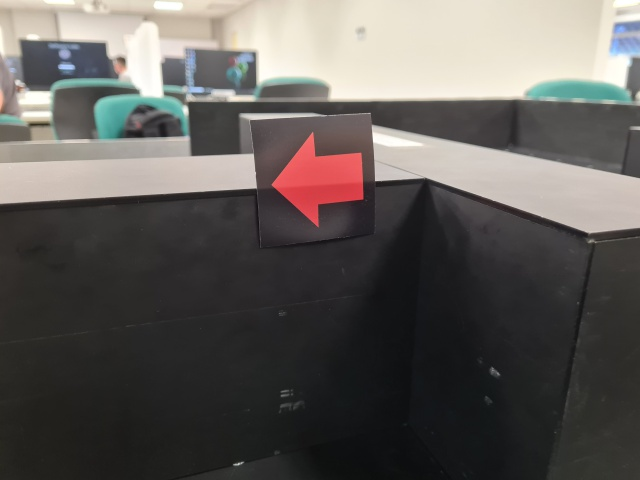left_arrow: (250, 113, 376, 249)
